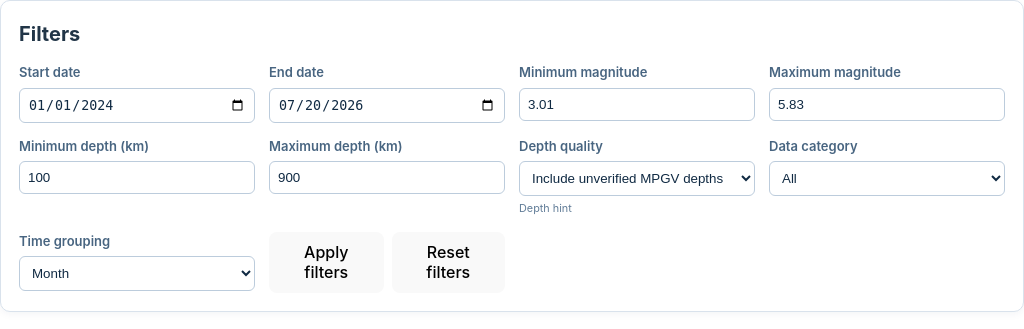
AnalysisFilters numeric limits › recalculates and clamps depth values when depth quality changes
Select "Matched depths only" in the dropdown named "depthQuality" at (637, 179), box [519,161,755,196]
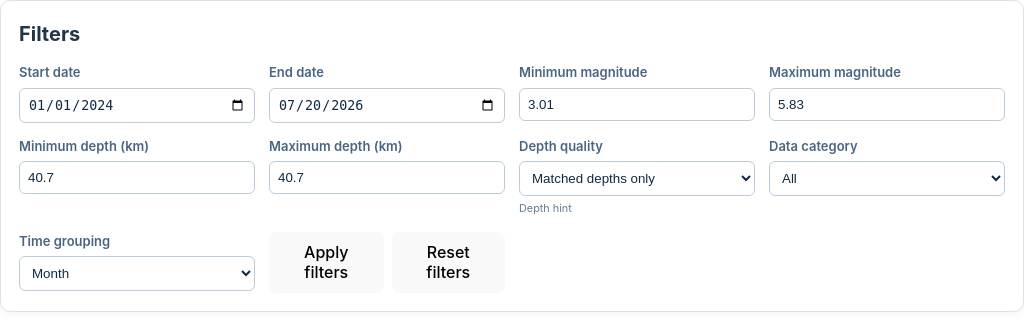
Check: the number field labelled "Minimum depth (km)" holds "40.7", box [19,161,255,194]
Check: the number field labelled "Maximum depth (km)" holds "40.7", box [269,161,505,194]
